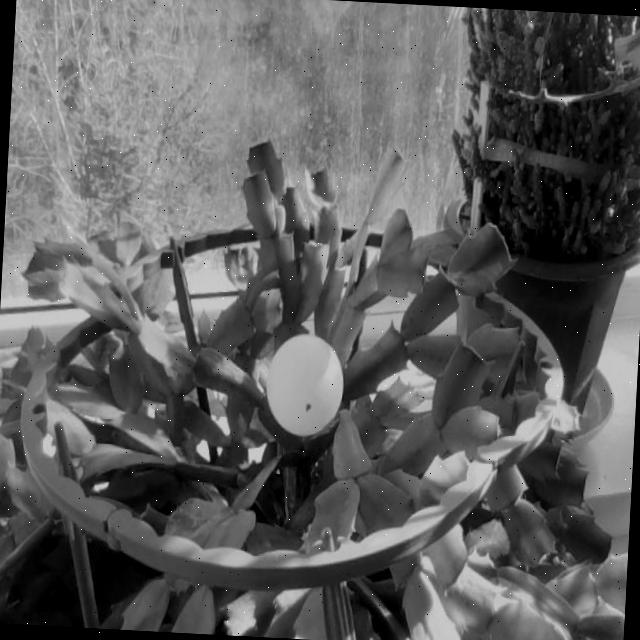ping-pong-ball: (266, 334, 347, 439)
